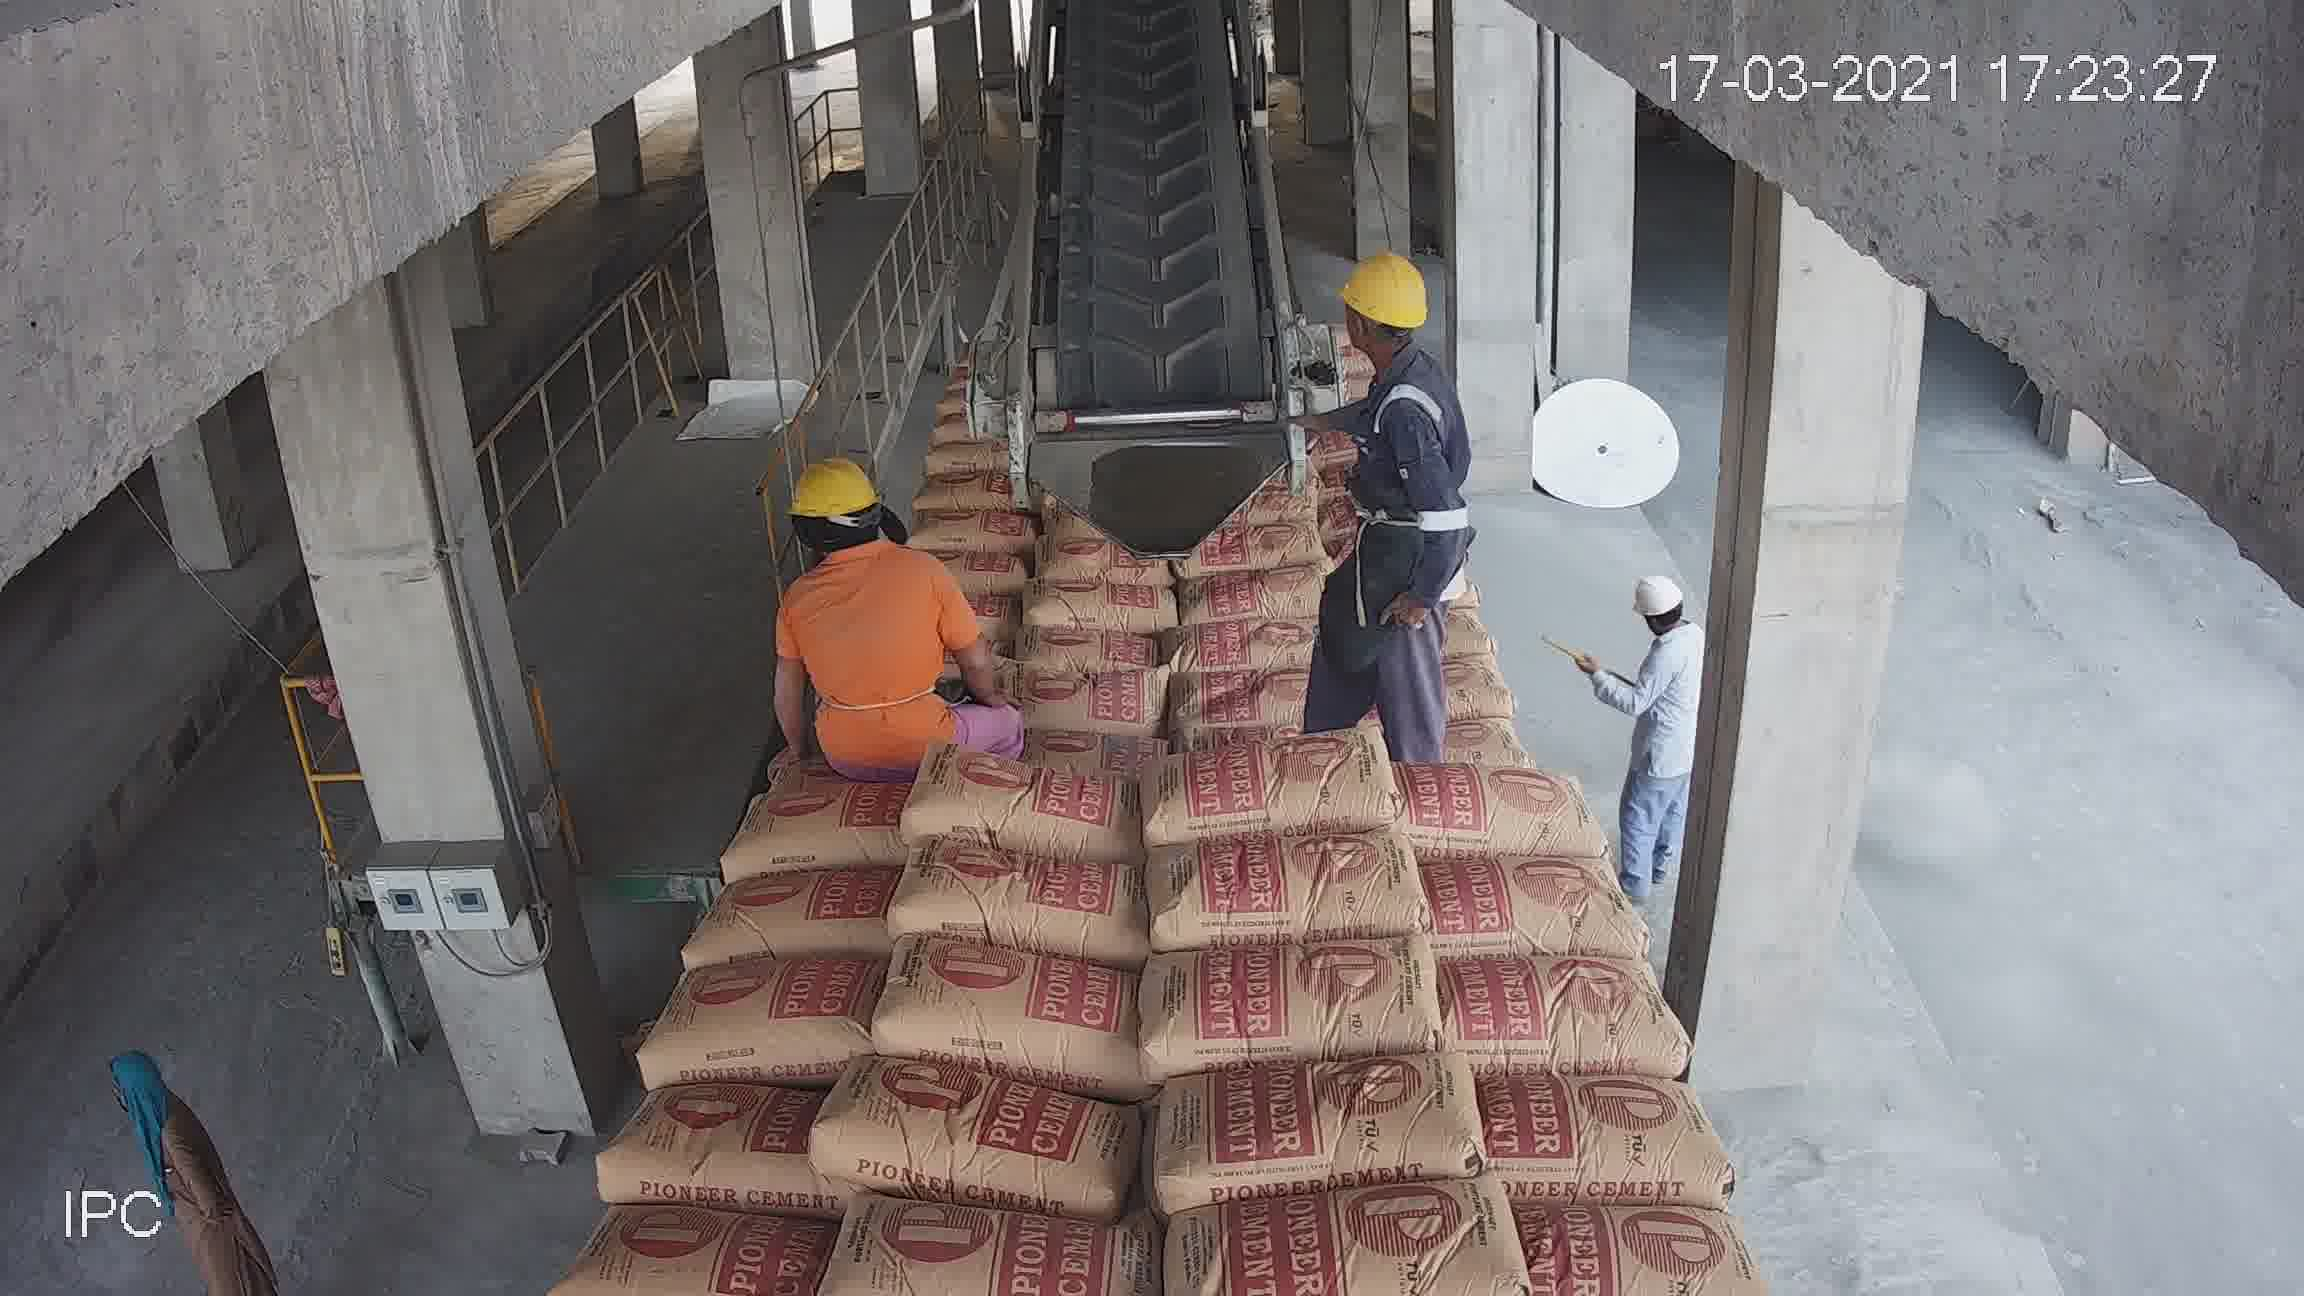bag: (1139, 351, 1301, 475), (1105, 74, 1211, 177)
bag_h: (1071, 921, 1457, 1078), (1146, 1044, 1484, 1217), (1195, 1174, 1524, 1296), (1158, 824, 1424, 961), (831, 1074, 1116, 1199), (807, 1195, 1158, 1291), (1486, 1060, 1698, 1214), (880, 938, 1146, 1055), (652, 946, 897, 1073), (587, 1078, 824, 1207), (1124, 581, 1385, 695), (1480, 938, 1666, 1071), (918, 742, 1127, 858), (567, 1204, 832, 1294), (1146, 728, 1421, 815), (695, 763, 888, 881), (1176, 657, 1402, 756), (889, 858, 1143, 946), (1518, 1204, 1750, 1296), (1432, 858, 1636, 954), (684, 870, 911, 954), (1412, 756, 1586, 866), (940, 663, 1147, 748), (1393, 680, 1575, 767), (755, 699, 934, 786), (1157, 525, 1351, 604), (798, 570, 984, 649), (968, 609, 1161, 684), (783, 631, 957, 711), (976, 560, 1147, 623), (1381, 623, 1554, 684), (1383, 567, 1522, 625), (1291, 449, 1442, 498), (1362, 521, 1473, 571), (1359, 481, 1454, 536), (1087, 503, 1169, 567), (1081, 462, 1177, 511), (913, 505, 1002, 554), (1328, 418, 1421, 460), (892, 538, 968, 578), (930, 472, 1010, 503)
belt: (1059, 5, 1260, 362)
